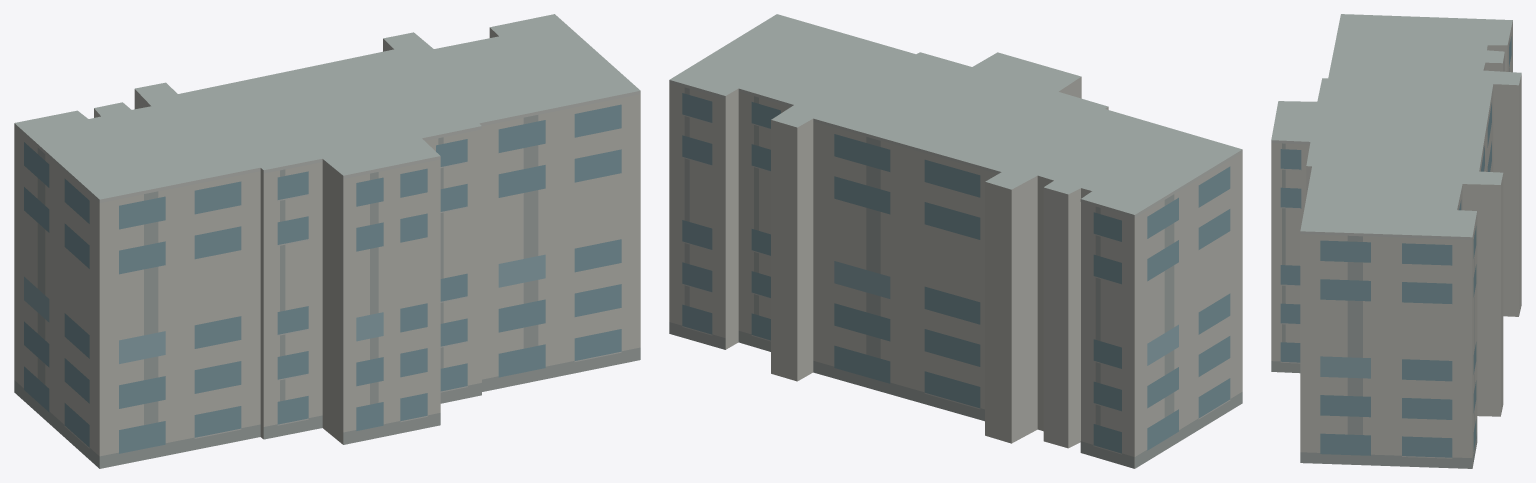
The model's file is survey-upis-32914854.glb.
3 renders of one model, left to right at view 1: azimuth 30°, elevation 25°; view 2: azimuth 150°, elevation 25°; view 3: azimuth 270°, elevation 25°, orthographic. The views are drawn at different scales.
Parts seen in each view (by area): view 1: survey-upis-32914854.tmp; view 2: survey-upis-32914854.tmp; view 3: survey-upis-32914854.tmp.
Part boxes in pixels (left/top/right/bottom): survey-upis-32914854.tmp: left=14, top=14, right=640, bottom=468; survey-upis-32914854.tmp: left=669, top=14, right=1242, bottom=468; survey-upis-32914854.tmp: left=1271, top=14, right=1521, bottom=468.
Bounding box in the file's own units: 40.91 × 19.8 × 19.41.
